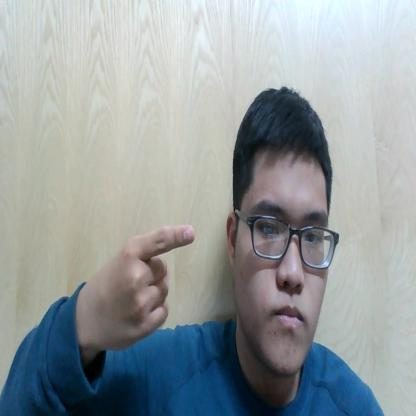left: (82, 215, 202, 349)
